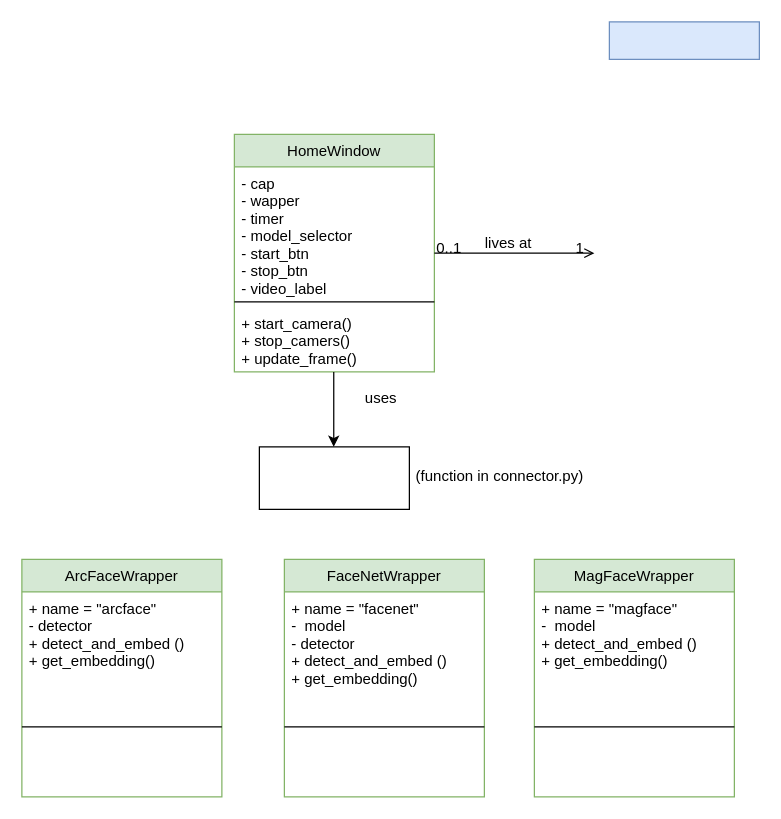
The diagram is 781 pixels wide and 819 high, and some of its shapes have lost their labels. The centre of each missing label's shape, as x and y in pixels:
"(PyQt5 QMainWindow)" goes at point (683, 40).
"load_model()" goes at point (333, 477).
